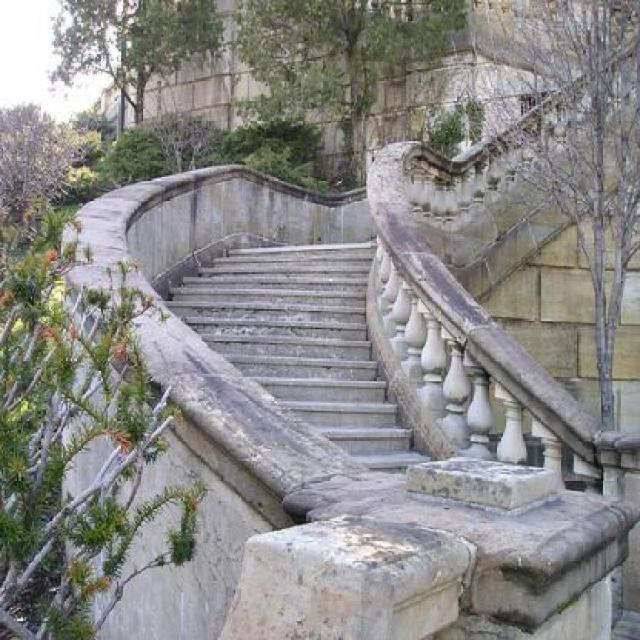stair: (206, 183, 419, 395)
